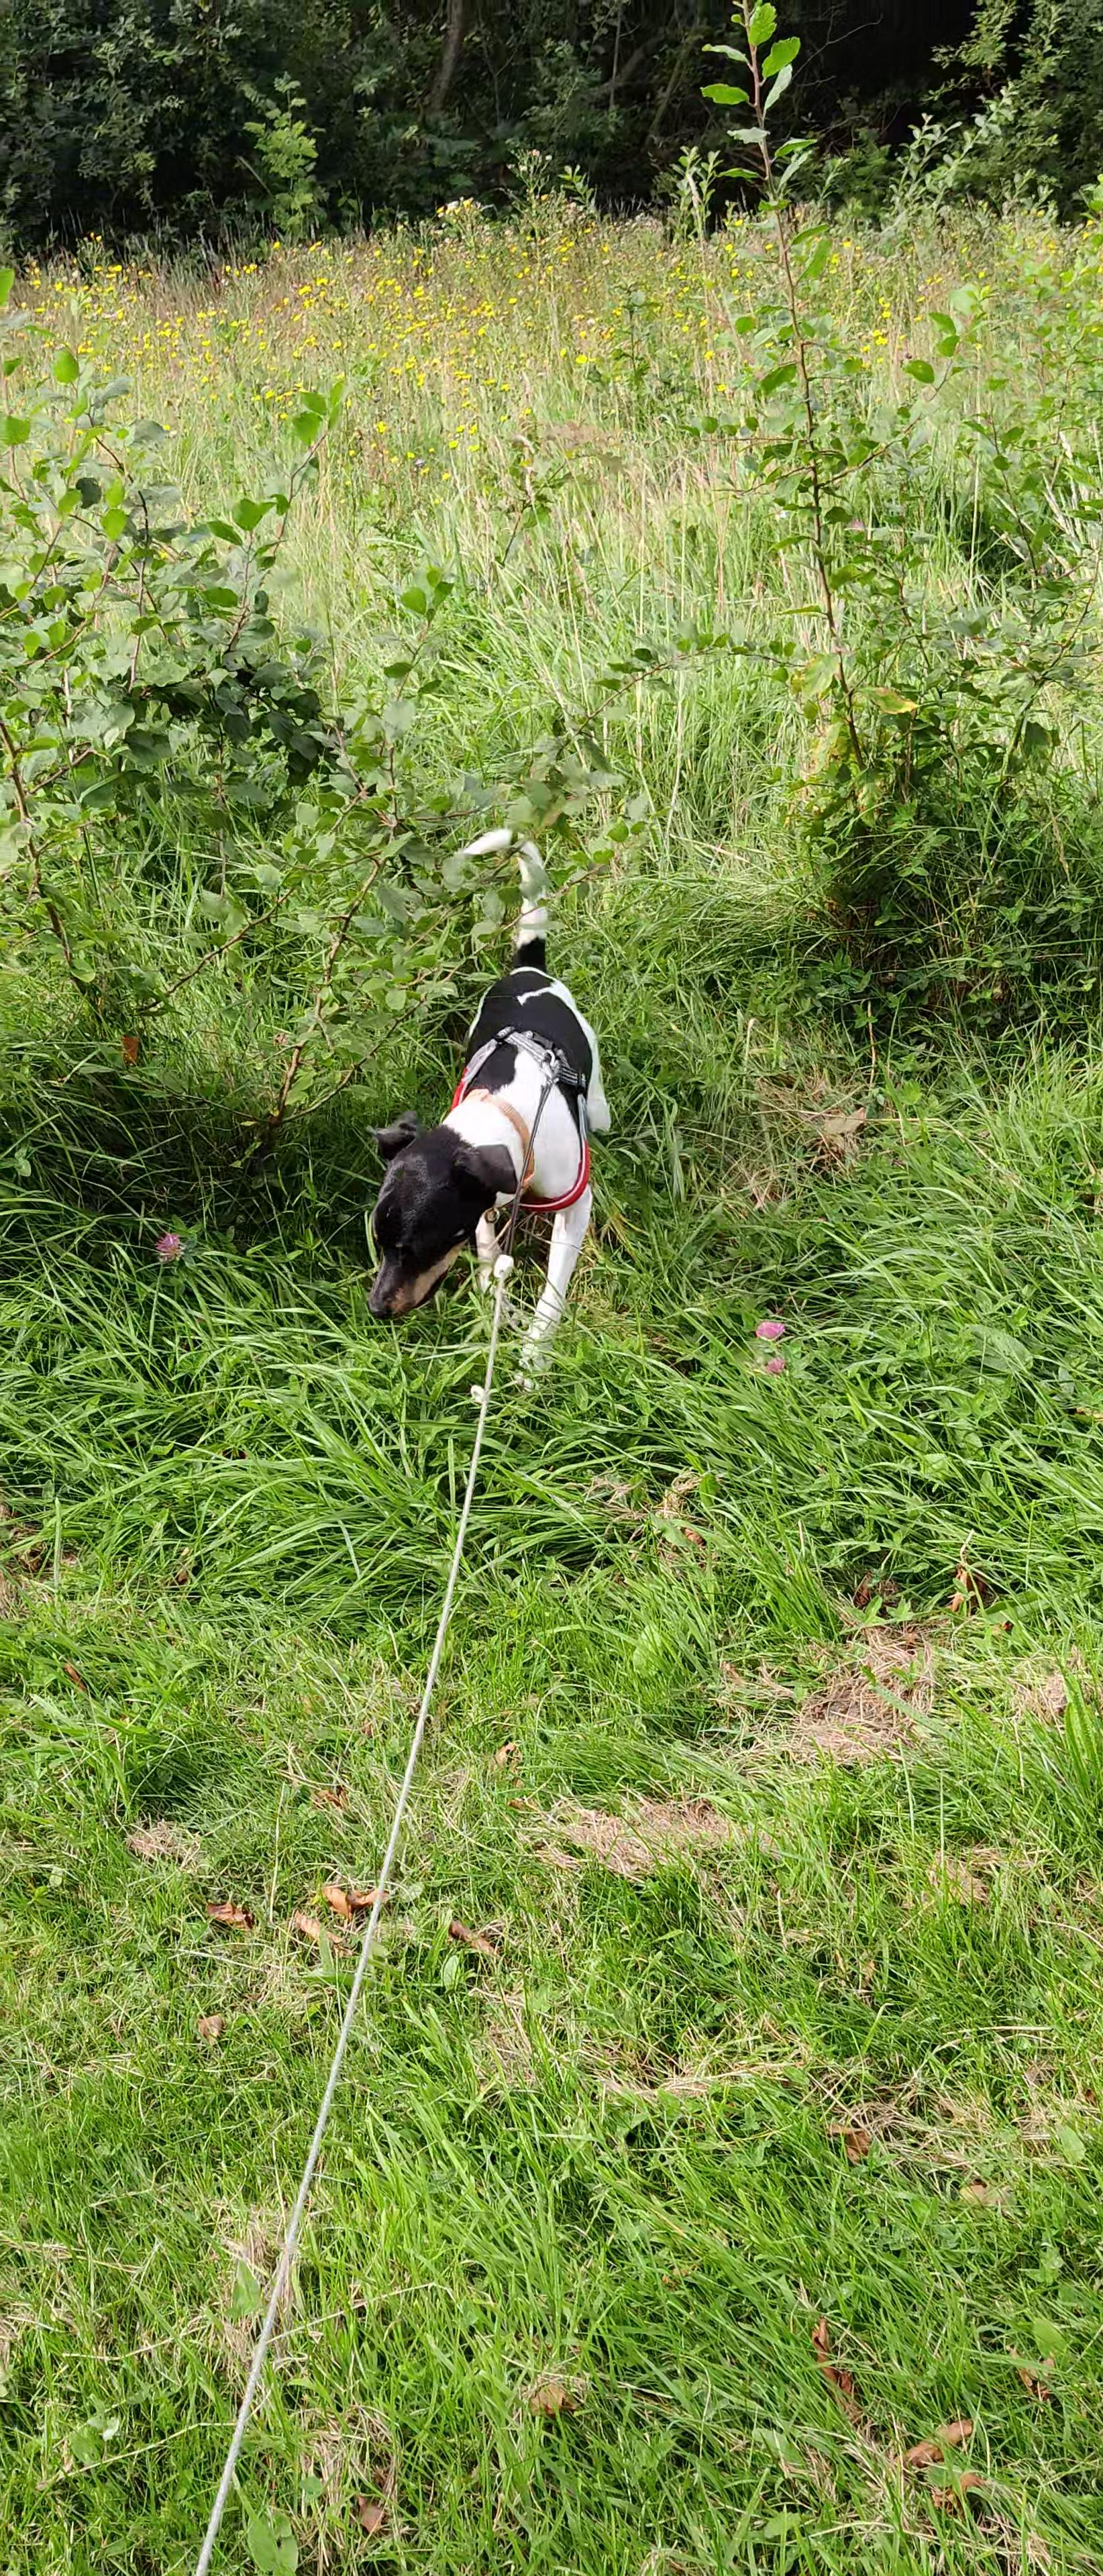Dog: (325, 815, 661, 1437)
